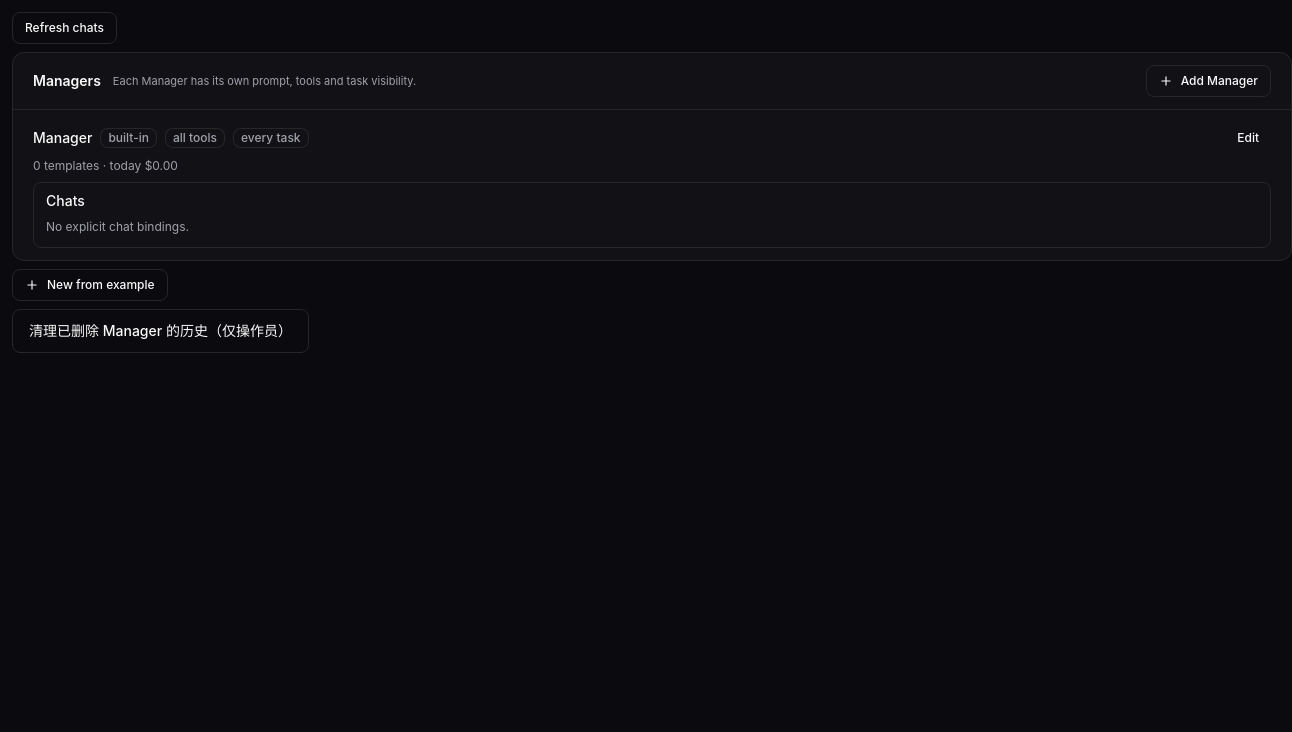
Test: Managers settings › renders the default Manager without Delete and with the Roles link
This screenshot has width=1292, height=732.
Click the button "Edit": [1248, 138] box [1225,122,1271,154]
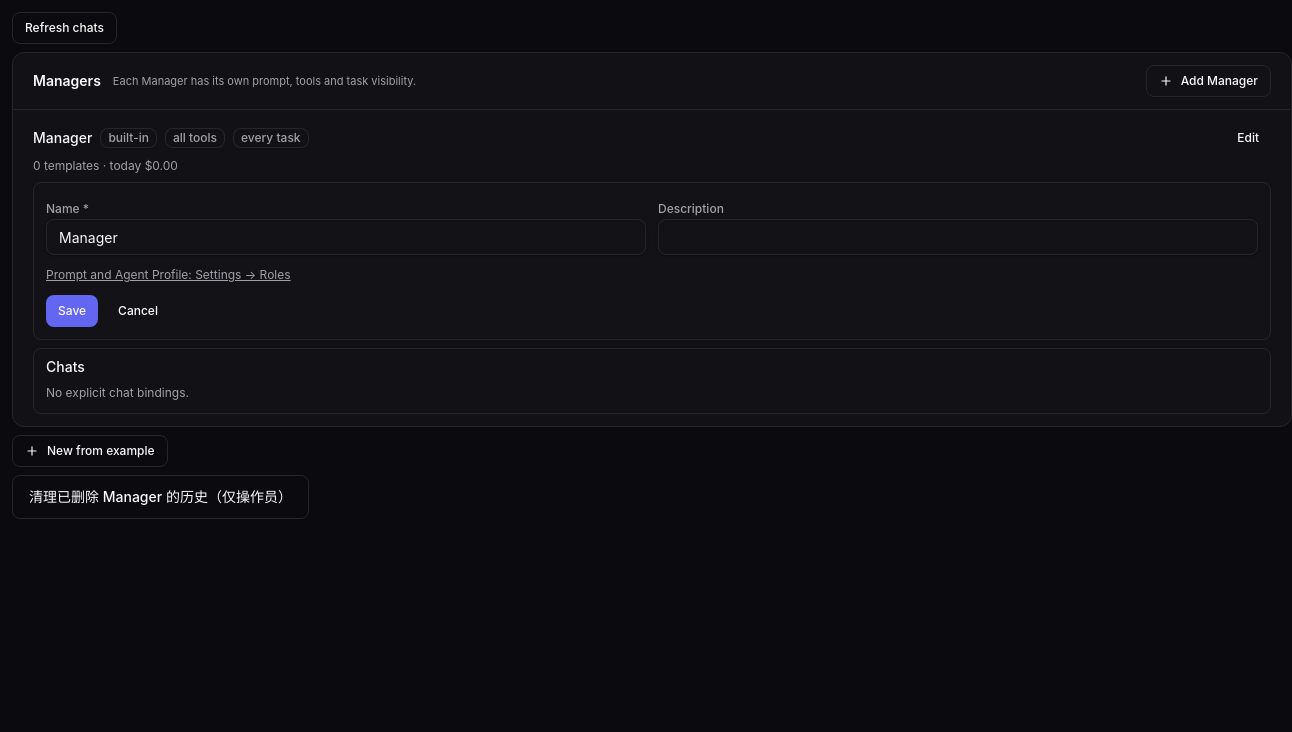
Expected: the text "Task visibility" is not shown
Now the link with id "settings" is shown, box [46,267,291,282]
